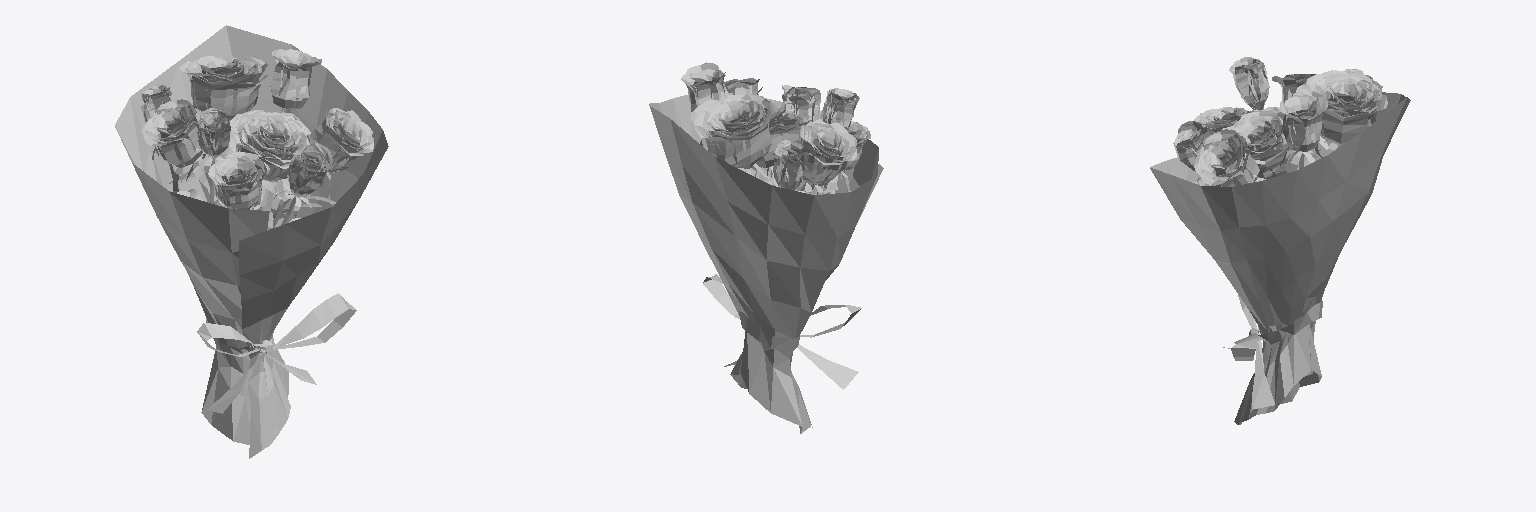
Rendered from bouquet.obj.
3 views of the same model, side by side, from view 1: azimuth 30°, elevation 25°; view 2: azimuth 150°, elevation 25°; view 3: azimuth 270°, elevation 25° (orthographic).
Parts seen in each view (by area): view 1: obj10, obj4, obj2, obj3, obj6, obj13, obj1, obj5, obj8, obj7, obj12, obj9; view 2: obj10, obj4, obj3, obj5, obj13, obj9, obj2, obj8, obj12, obj7, obj1, obj6; view 3: obj10, obj4, obj6, obj5, obj2, obj7, obj12, obj13, obj8, obj1, obj3.
Boxes of the visible parts, <box> form: obj10: <box>115,25,388,458</box>; obj4: <box>169,55,285,218</box>; obj2: <box>230,110,310,227</box>; obj3: <box>142,99,259,209</box>; obj6: <box>266,108,373,228</box>; obj13: <box>207,293,356,413</box>; obj1: <box>208,151,269,209</box>; obj5: <box>266,49,321,217</box>; obj8: <box>267,143,332,230</box>; obj7: <box>186,108,230,203</box>; obj12: <box>197,318,316,384</box>; obj9: <box>141,85,196,198</box>; obj10: <box>649,94,883,433</box>; obj4: <box>691,93,777,178</box>; obj3: <box>800,121,856,194</box>; obj5: <box>681,62,738,168</box>; obj13: <box>703,274,858,389</box>; obj9: <box>773,140,808,193</box>; obj2: <box>755,108,811,186</box>; obj8: <box>772,85,837,194</box>; obj12: <box>724,305,861,366</box>; obj7: <box>817,88,859,194</box>; obj1: <box>816,119,870,193</box>; obj6: <box>724,78,773,184</box>; obj10: <box>1150,92,1410,424</box>; obj4: <box>1296,70,1387,328</box>; obj6: <box>1194,129,1312,375</box>; obj5: <box>1268,89,1327,173</box>; obj2: <box>1222,107,1297,179</box>; obj7: <box>1229,57,1269,112</box>; obj12: <box>1238,294,1322,409</box>; obj13: <box>1223,305,1314,360</box>; obj8: <box>1175,121,1211,185</box>; obj1: <box>1193,107,1249,134</box>; obj3: <box>1272,74,1328,169</box>.
Bounding box in the file's own units: 0.1424 × 0.2391 × 0.1552.